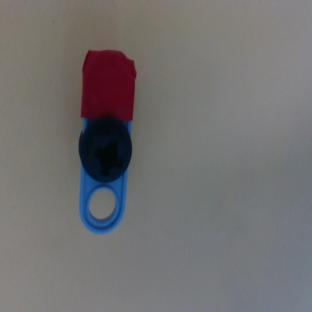part_1_good: (73, 48, 137, 235)
